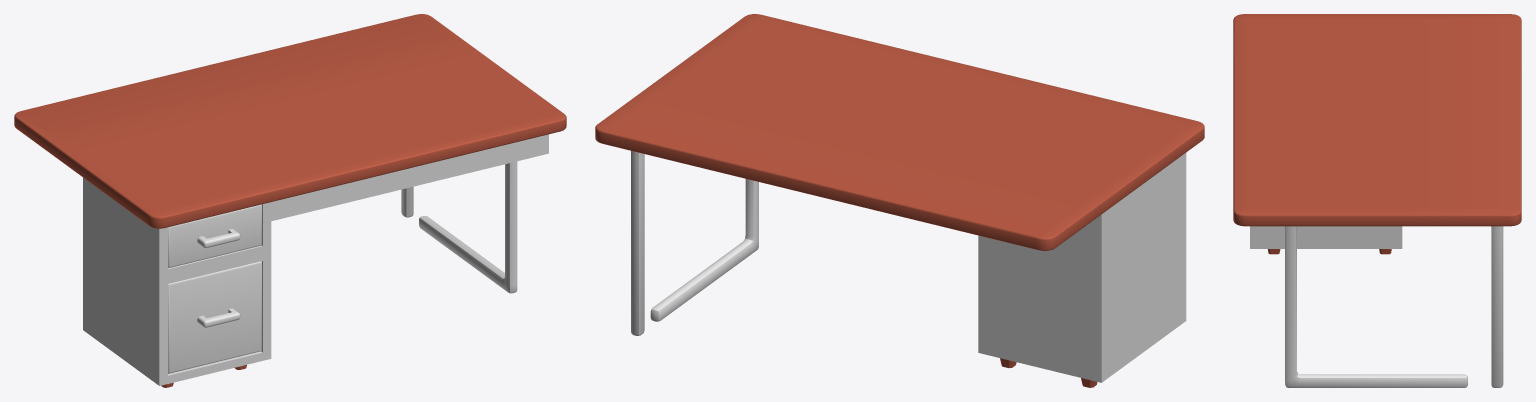
The model's file is Desk.glb.
3 views of the same model, side by side, from view 1: azimuth 30°, elevation 25°; view 2: azimuth 150°, elevation 25°; view 3: azimuth 270°, elevation 25° (orthographic). The views are drawn at different scales.
Parts seen in each view (by area): view 1: Cube, Cube.002, Cube.001; view 2: Cube; view 3: Cube.
Boxes of the visible parts, <box> form: Cube: <box>14,14,566,387</box>; Cube.002: <box>168,261,261,373</box>; Cube.001: <box>168,204,261,268</box>; Cube: <box>595,14,1204,387</box>; Cube: <box>1233,14,1521,387</box>.
Bounding box in the file's own units: 2 × 0.8679 × 1.21.
